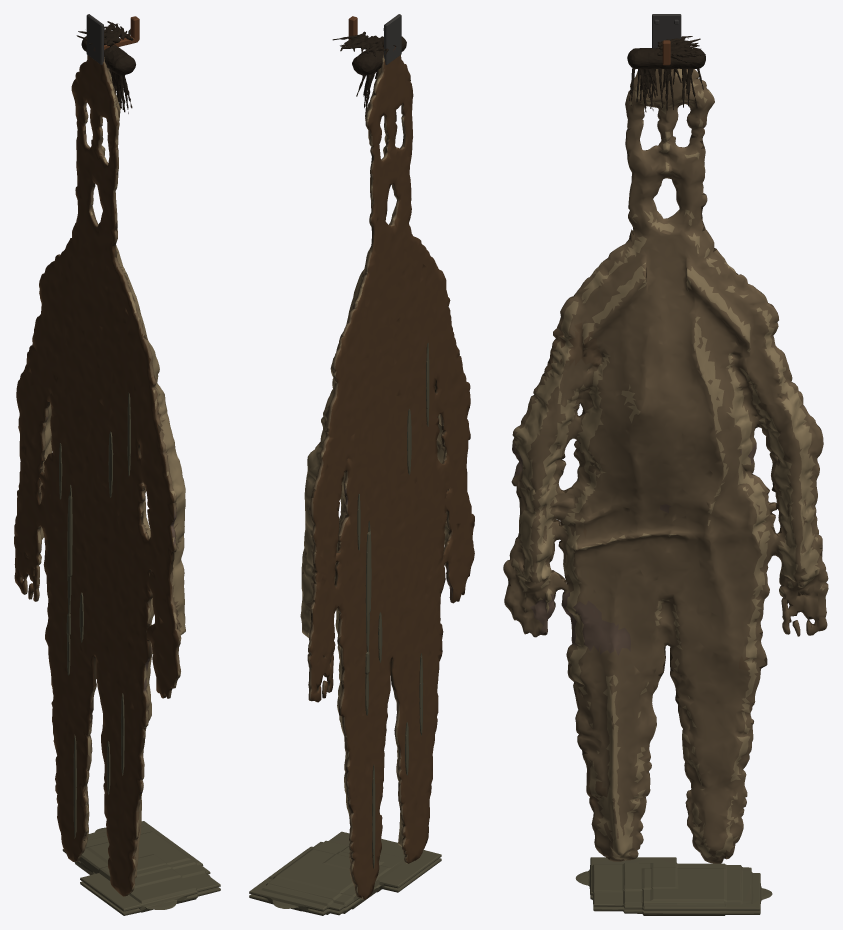
The model's file is skin_hung.glb.
The picture shows the model from 3 angles, left to right: view 1: azimuth 30°, elevation 25°; view 2: azimuth 150°, elevation 25°; view 3: azimuth 270°, elevation 25°; orthographic projection.
Parts seen in each view (by area): view 1: haut_haengend, blut, haar, teil0; view 2: haut_haengend, blut, haar, teil0; view 3: haut_haengend, blut, haar, teil0.
Boxes of the visible parts, x1,y1,x2,y2 form: haut_haengend: (14,55,185,896); blut: (59,392,220,915); haar: (76,21,135,113); teil0: (86,14,104,64); haut_haengend: (300,55,474,899); blut: (249,343,441,915); haar: (332,31,406,116); teil0: (383,14,401,64); haut_haengend: (503,47,828,863); blut: (575,857,772,915); haar: (627,36,705,112); teil0: (652,14,681,48).
Size of the model in its own units: 0.2488 by 1.93 by 0.6629.
